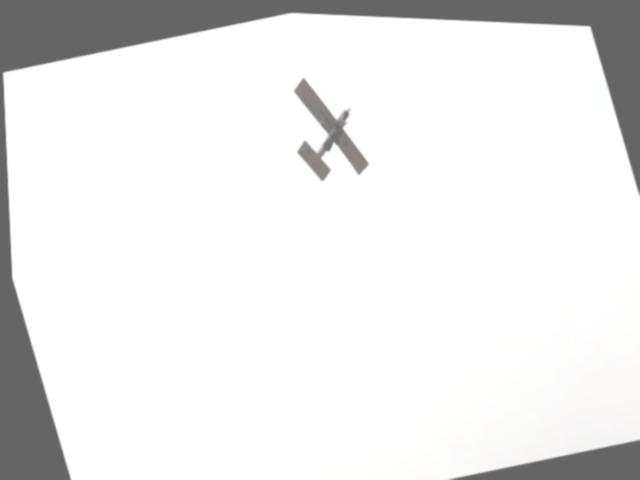plane: (274, 63, 371, 188)
